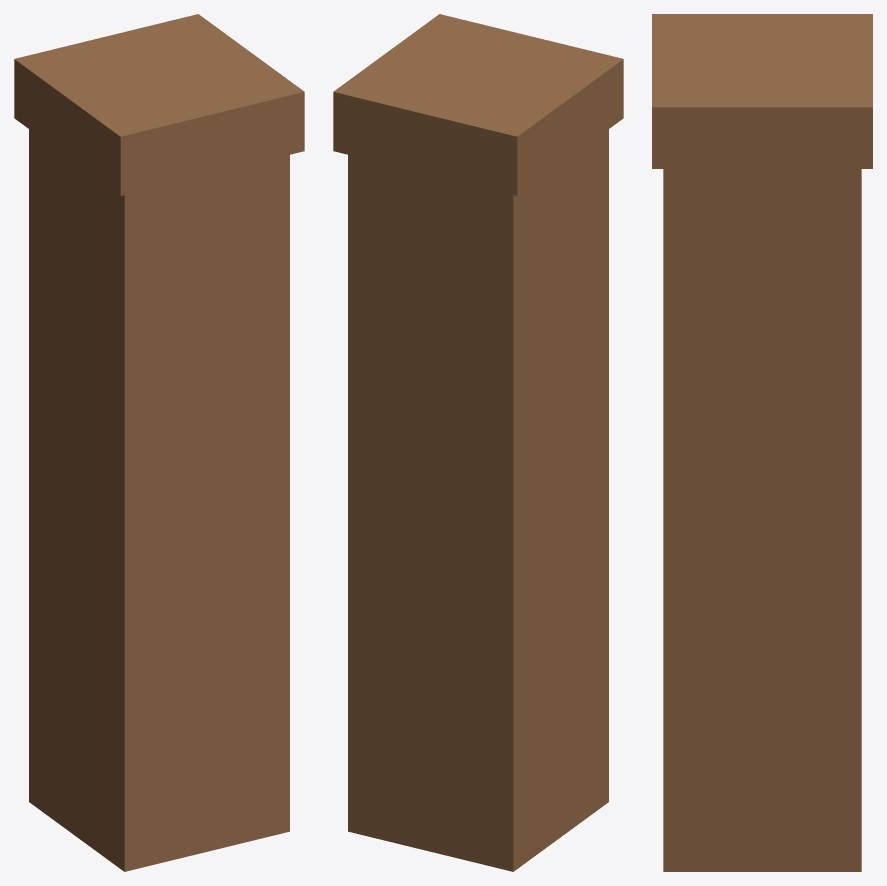
Rendered from leg_rear_right.body.glb.
The picture shows the model from 3 angles, left to right: view 1: azimuth 30°, elevation 25°; view 2: azimuth 150°, elevation 25°; view 3: azimuth 270°, elevation 25°; orthographic projection. The views are drawn at different scales.
Visible parts, largest first — view 1: geometry_0_cube; view 2: geometry_0_cube; view 3: geometry_0_cube.
Boxes of the visible parts, bbox=[...] form: geometry_0_cube: bbox=[14, 14, 304, 871]; geometry_0_cube: bbox=[333, 14, 623, 871]; geometry_0_cube: bbox=[652, 14, 872, 871].
Bounding box in the file's own units: 78 × 300 × 78.
